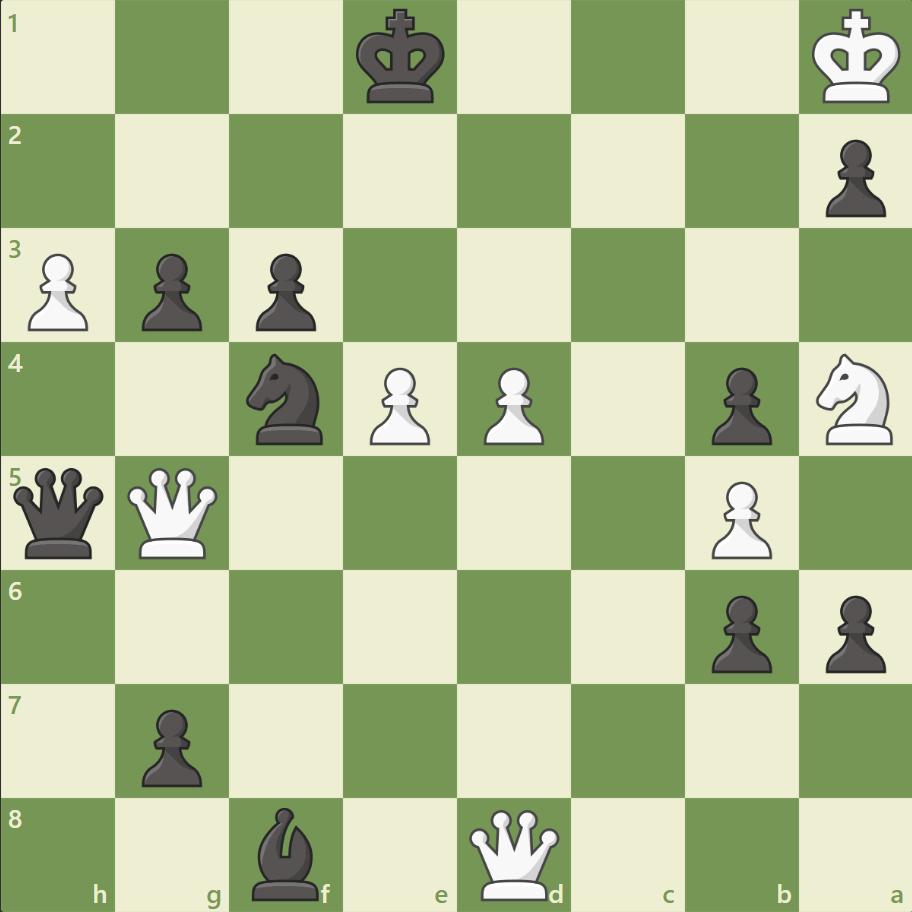K: (806, 4, 906, 112)
N: (806, 348, 903, 450)
P: (701, 473, 776, 564), (474, 359, 549, 450), (20, 246, 95, 337), (361, 359, 435, 450)
Q: (464, 804, 563, 903), (124, 463, 223, 562)
b: (244, 801, 328, 904)
k: (351, 4, 451, 112)
n: (238, 348, 335, 450)
p: (133, 700, 208, 791), (701, 586, 776, 677), (701, 359, 776, 450), (247, 246, 322, 337), (133, 246, 208, 337), (815, 586, 889, 677), (815, 132, 889, 223)
q: (10, 463, 109, 562)
